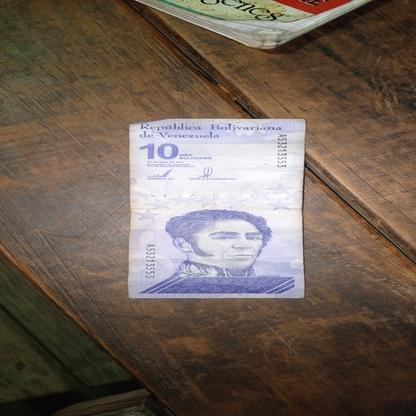ten-front-vef: (109, 117, 287, 298)
